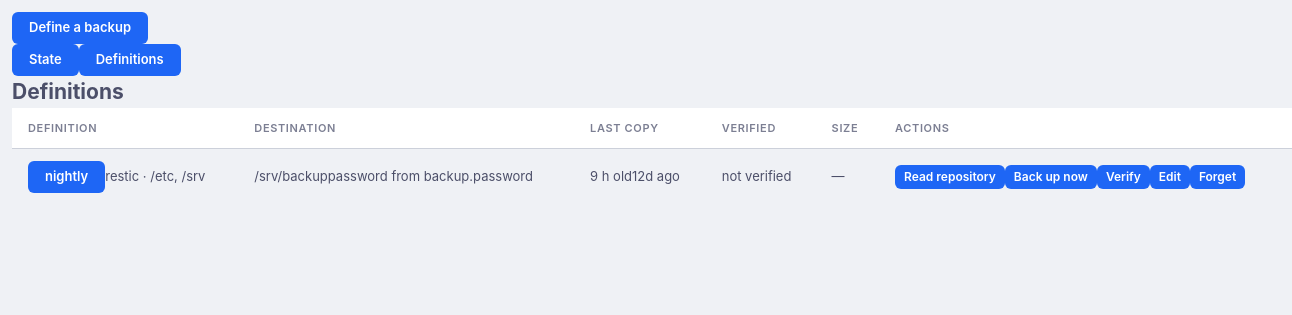
Test case: the repository and the restore › says why the repository could not be read rather than showing no copies
This screenshot has width=1292, height=315.
Step 1. Click the button with test id "plan-nightly" → (950, 177), box [895,165,1005,189]
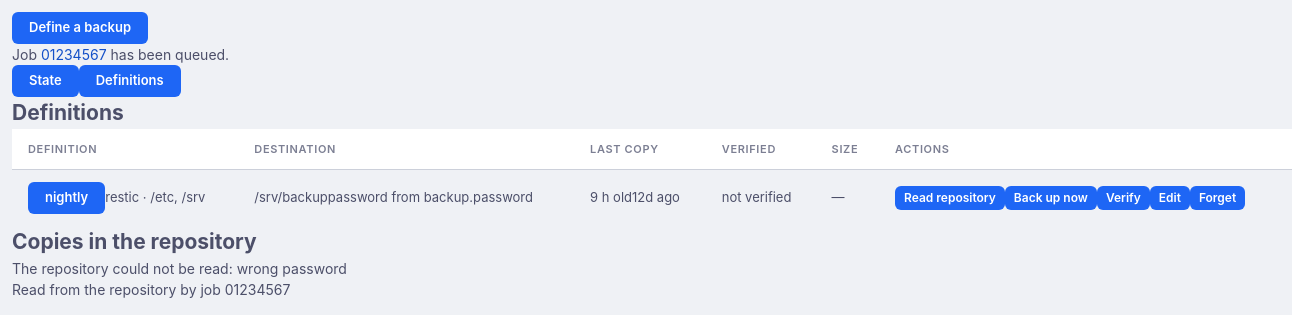
Result: the text "The repository could not be read: wrong password" is shown at [12,260,347,276]
